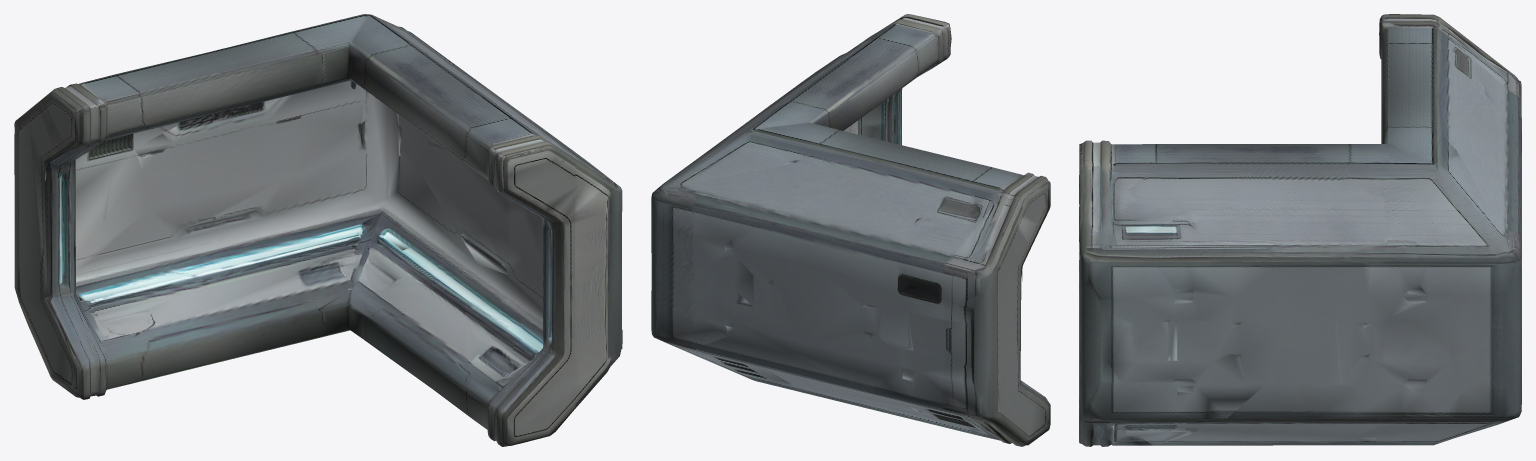
The model's file is wall-corner.glb.
3 renders of one model, left to right at view 1: azimuth 30°, elevation 25°; view 2: azimuth 150°, elevation 25°; view 3: azimuth 270°, elevation 25°, orthographic. The views are drawn at different scales.
Parts seen in each view (by area): view 1: Mesh_0.002; view 2: Mesh_0.002; view 3: Mesh_0.002.
Boxes of the visible parts, x1,y1,x2,y2 form: Mesh_0.002: (14,14,622,446); Mesh_0.002: (651,14,1050,446); Mesh_0.002: (1079,14,1521,446).
Bounding box in the file's own units: 2.81 × 2 × 2.81.
1 material, 1 textured.
